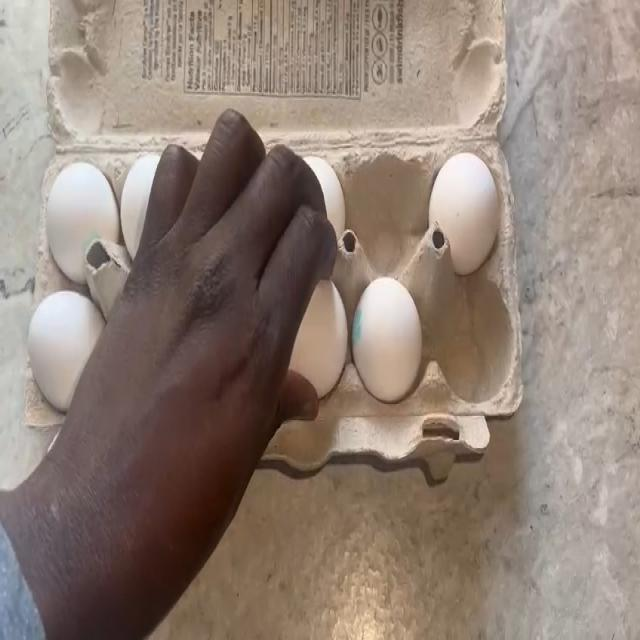Egg: (38, 148, 112, 251), (23, 278, 92, 386), (361, 280, 426, 393), (433, 152, 501, 246), (304, 146, 352, 216), (310, 302, 345, 366)
